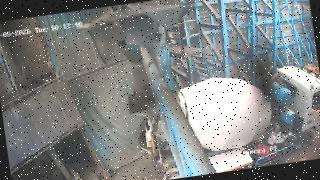cement_mixer_truck: (123, 61, 320, 180)
swing_chute: (116, 34, 166, 96)
